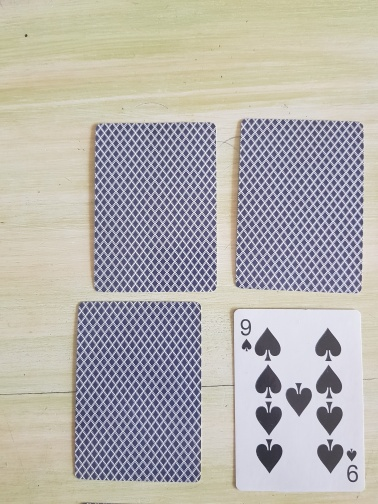nine: (231, 307, 367, 493)
